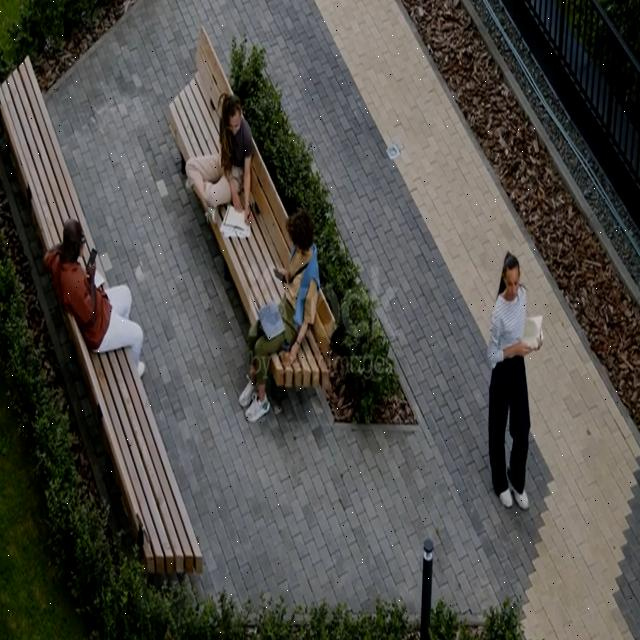sitting: (239, 210, 320, 421), (44, 218, 145, 376), (185, 93, 254, 222)
standing: (488, 251, 542, 509)
